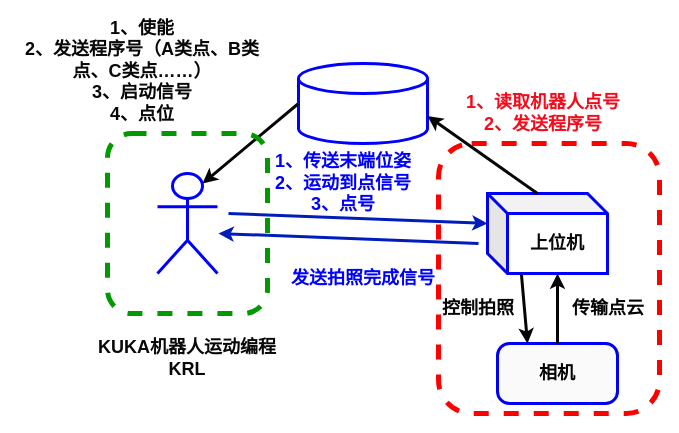
This 679x433 diagram has some shape labels left out. Each missing label, with the centre of its shape:
机器人: point 187,223
车间主控PLC: point 362,103
